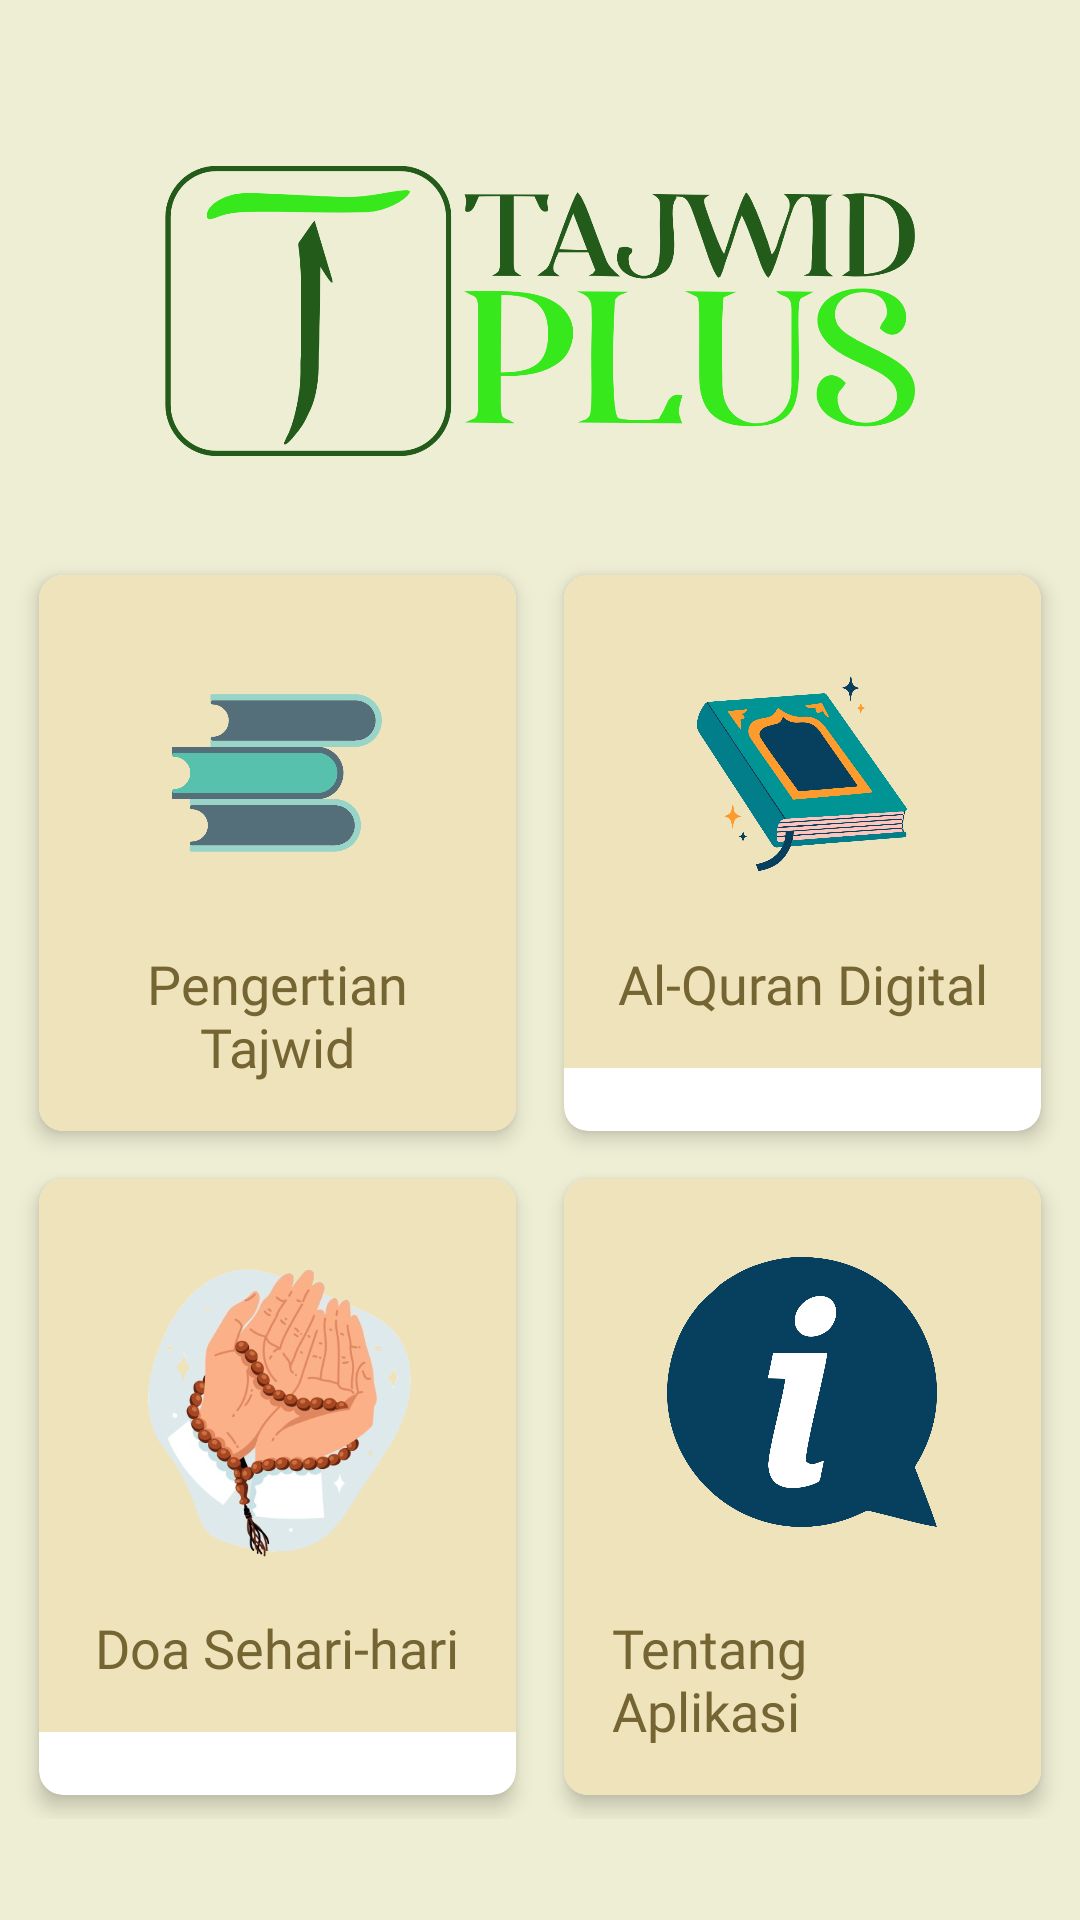

Named icons in this screenshot (1080 × 1920) and their centers, [x,y]:
information: [802,1392]
materi: [277,773]
